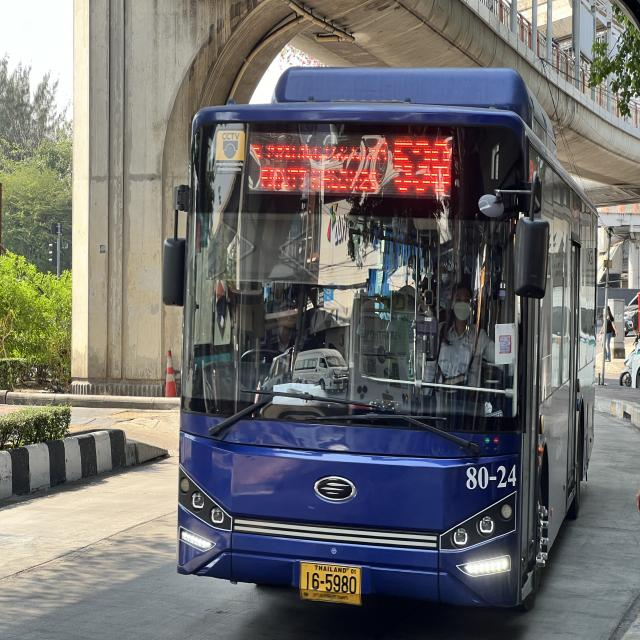Bus-Line-Number: (391, 125, 457, 203)
Destination-Sign-Normal: (248, 127, 387, 202)
TSB-Bus: (175, 68, 600, 611)
